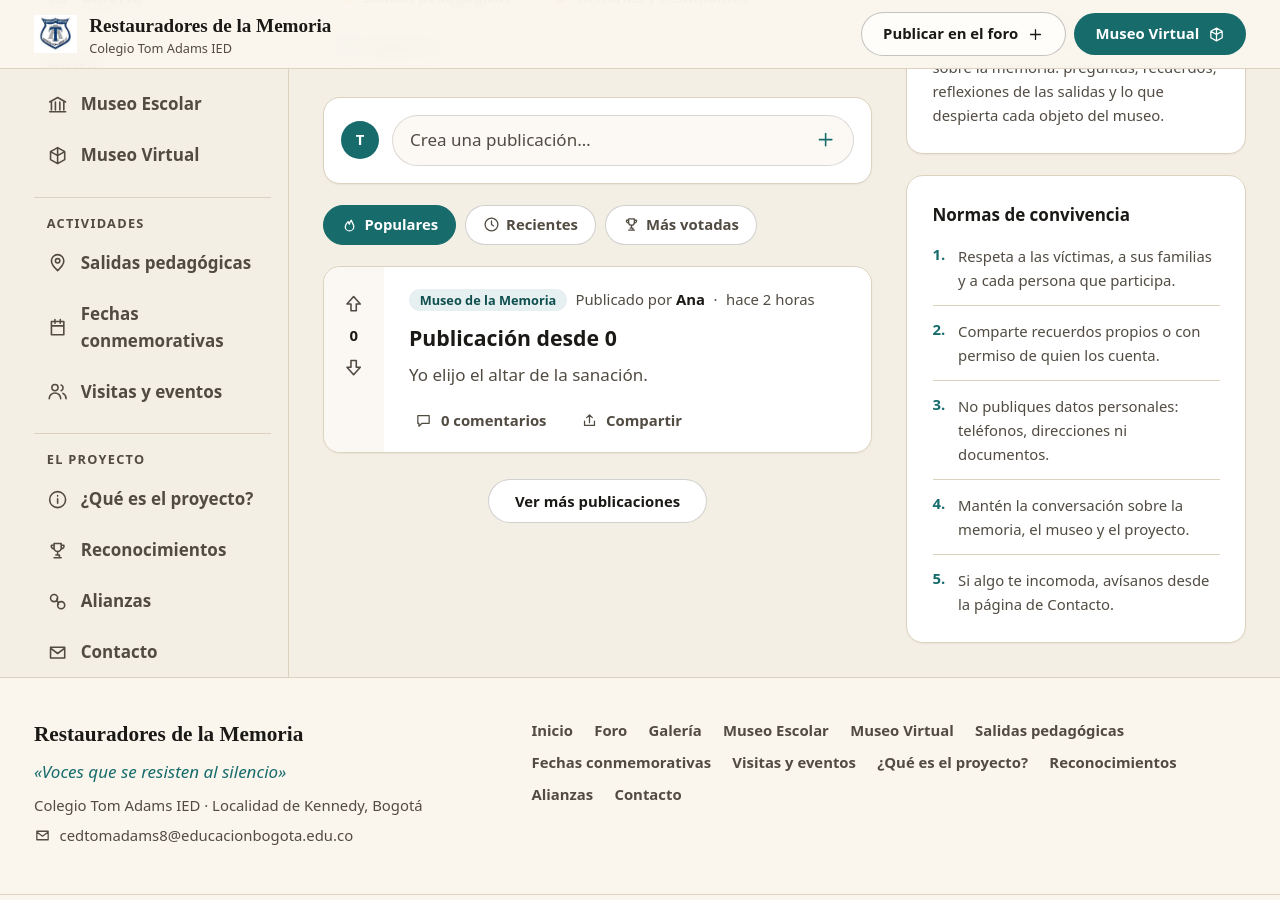
Test: Foro: muro de publicaciones › carga más publicaciones bajo demanda
This screenshot has width=1280, height=900.
(page scrolled)
Click the button "Ver más publicaciones" at (597, 501), box [488, 479, 706, 524]
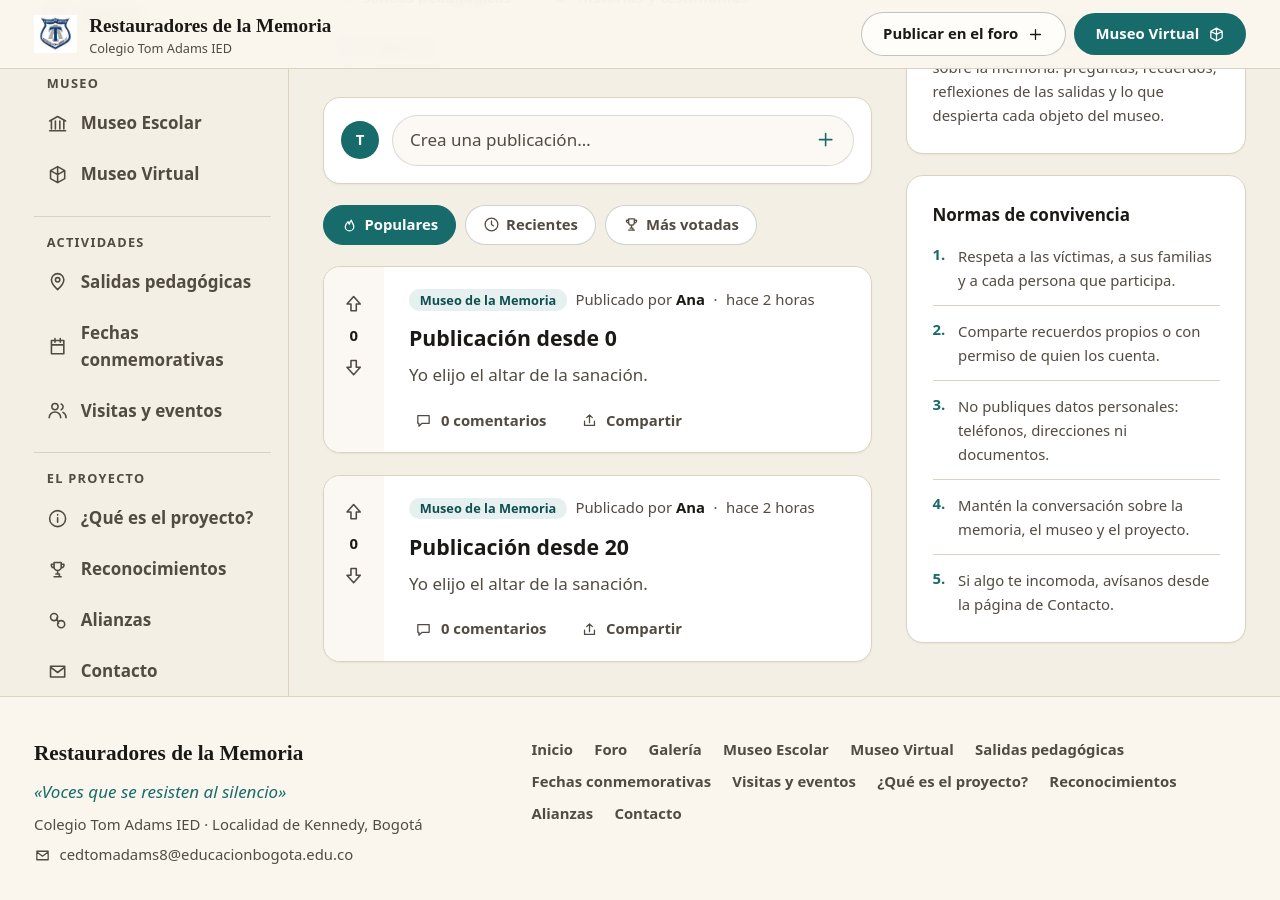
Now the link "Publicación desde 20" is shown, box [409, 532, 629, 561]
